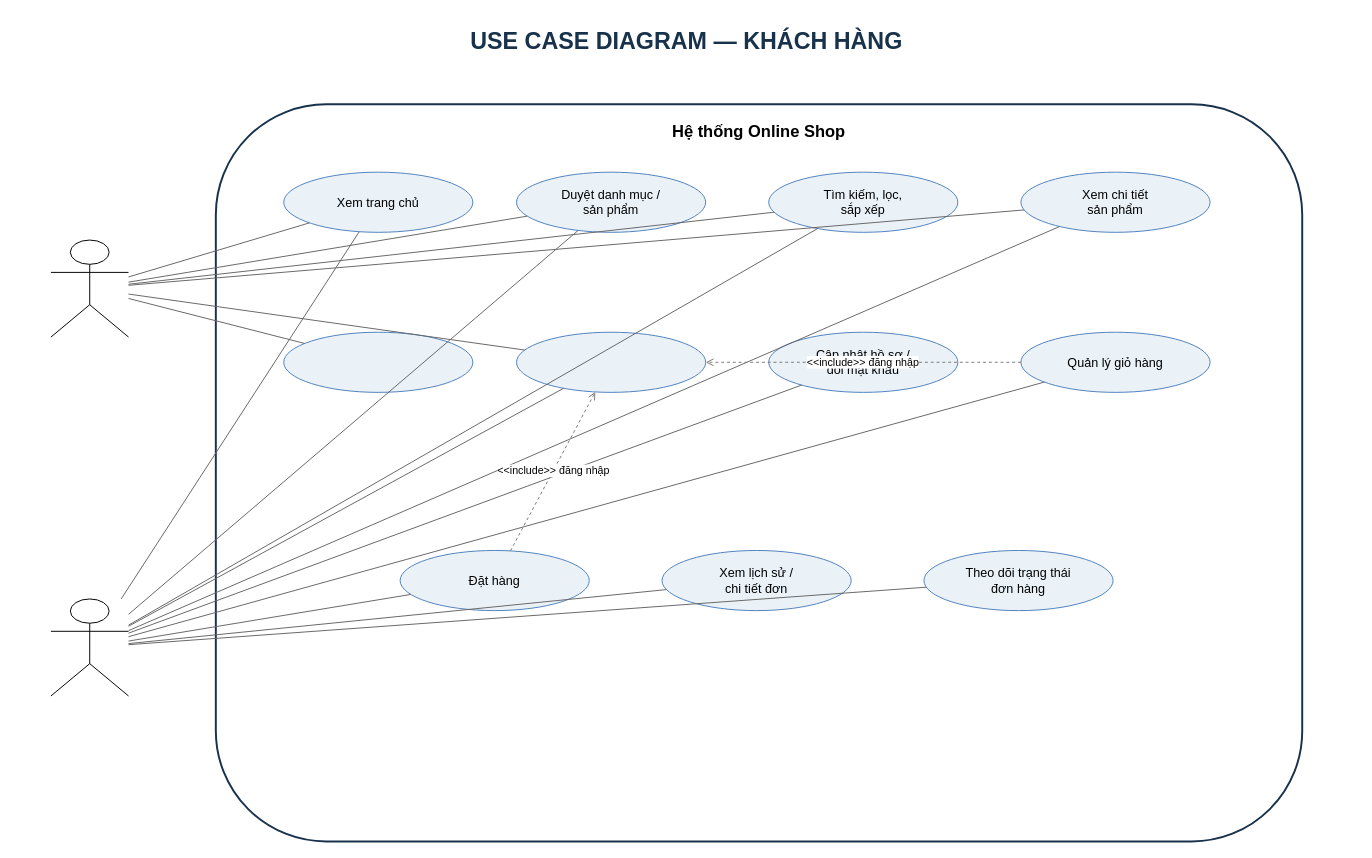
This 1372x858 diagram has some shape labels left out. Each missing label, with the box of its shape:
Khách: (50, 239, 129, 337)
Khách hàng (đã đăng nhập): (50, 598, 129, 696)
Đăng ký: (283, 331, 473, 392)
Đăng nhập / đăng xuất: (516, 331, 706, 392)
